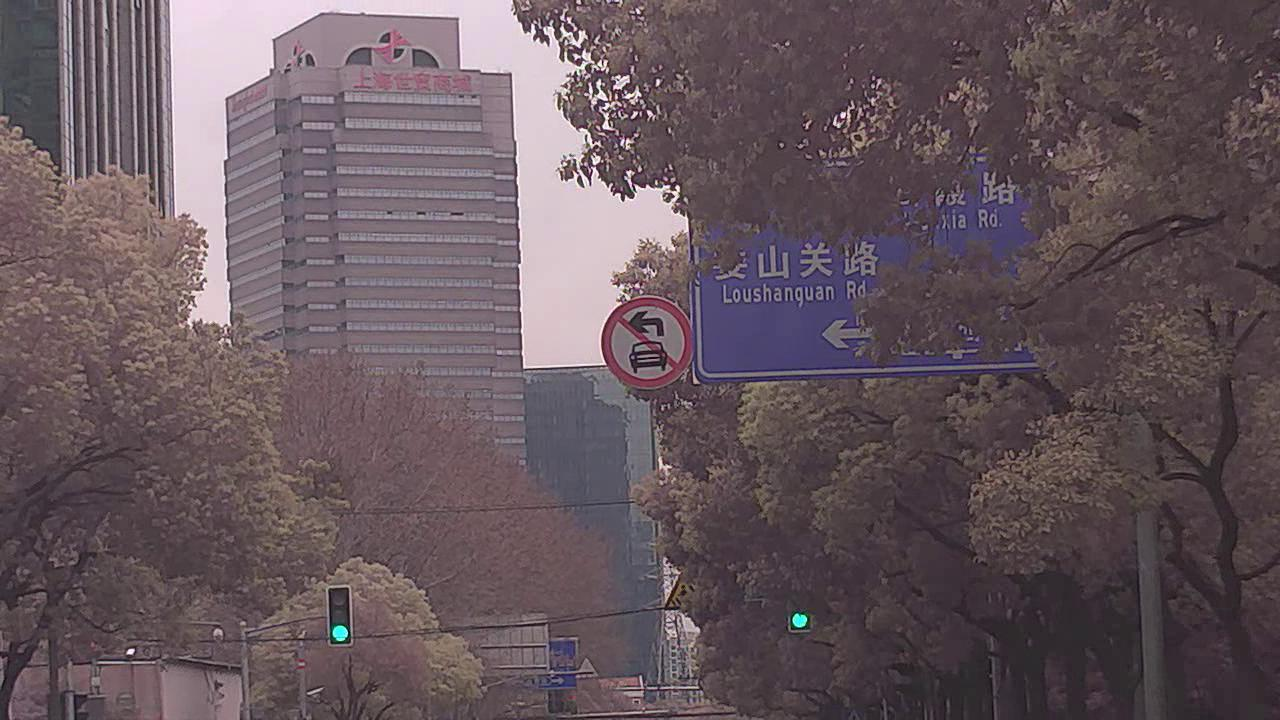traffic_light: (328, 586, 350, 648)
